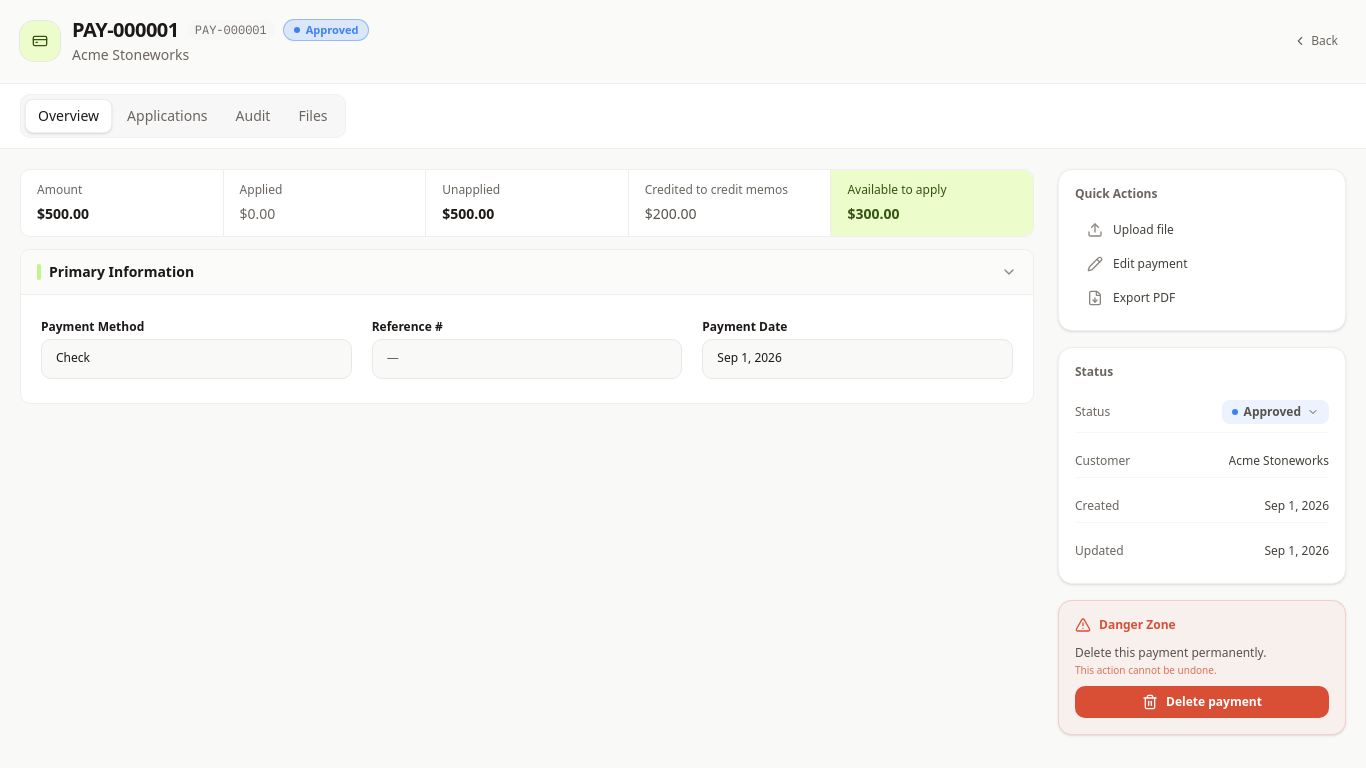
Test: PaymentDetailPage credited overpayment › can still apply the part that is not credited
Click the button "Applications" at (167, 116), box [114, 99, 221, 133]
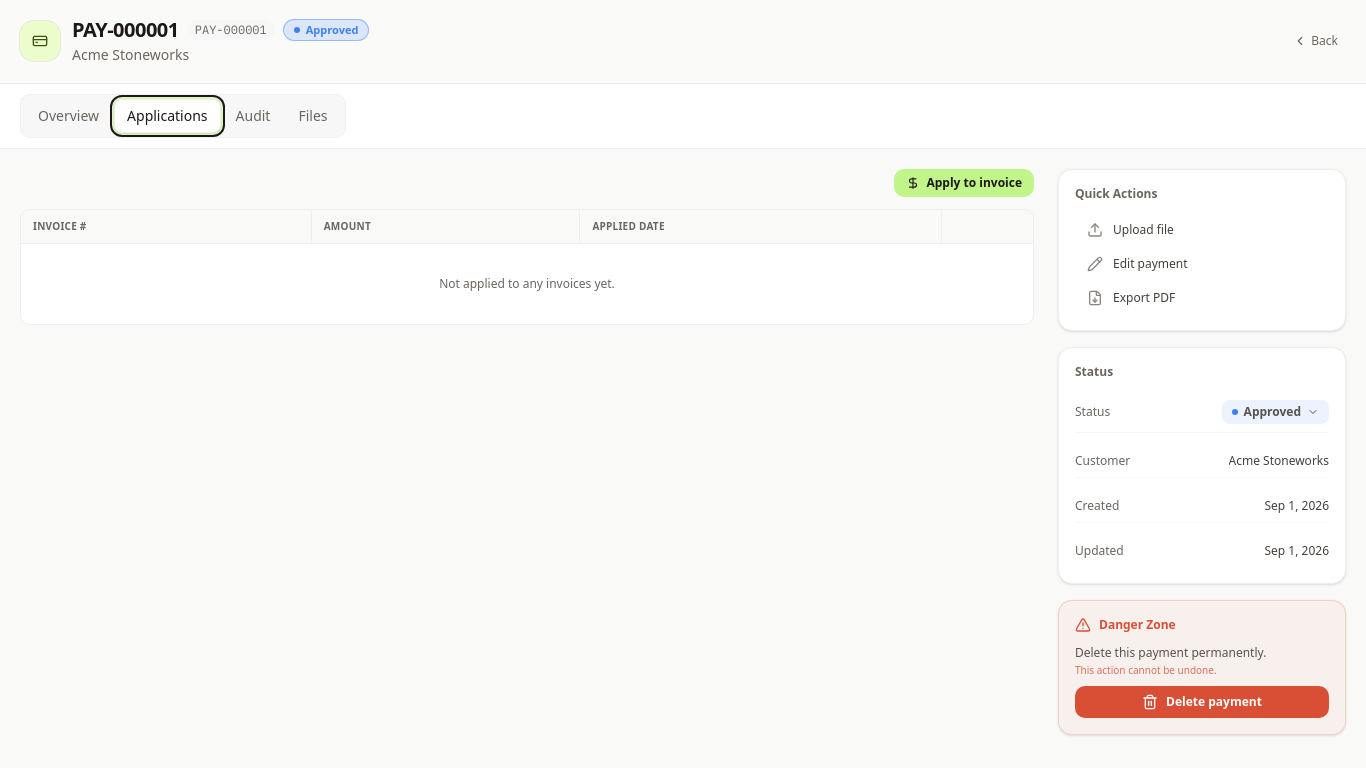
expect the button "Apply to invoice" is enabled: met, box [894, 169, 1034, 197]
